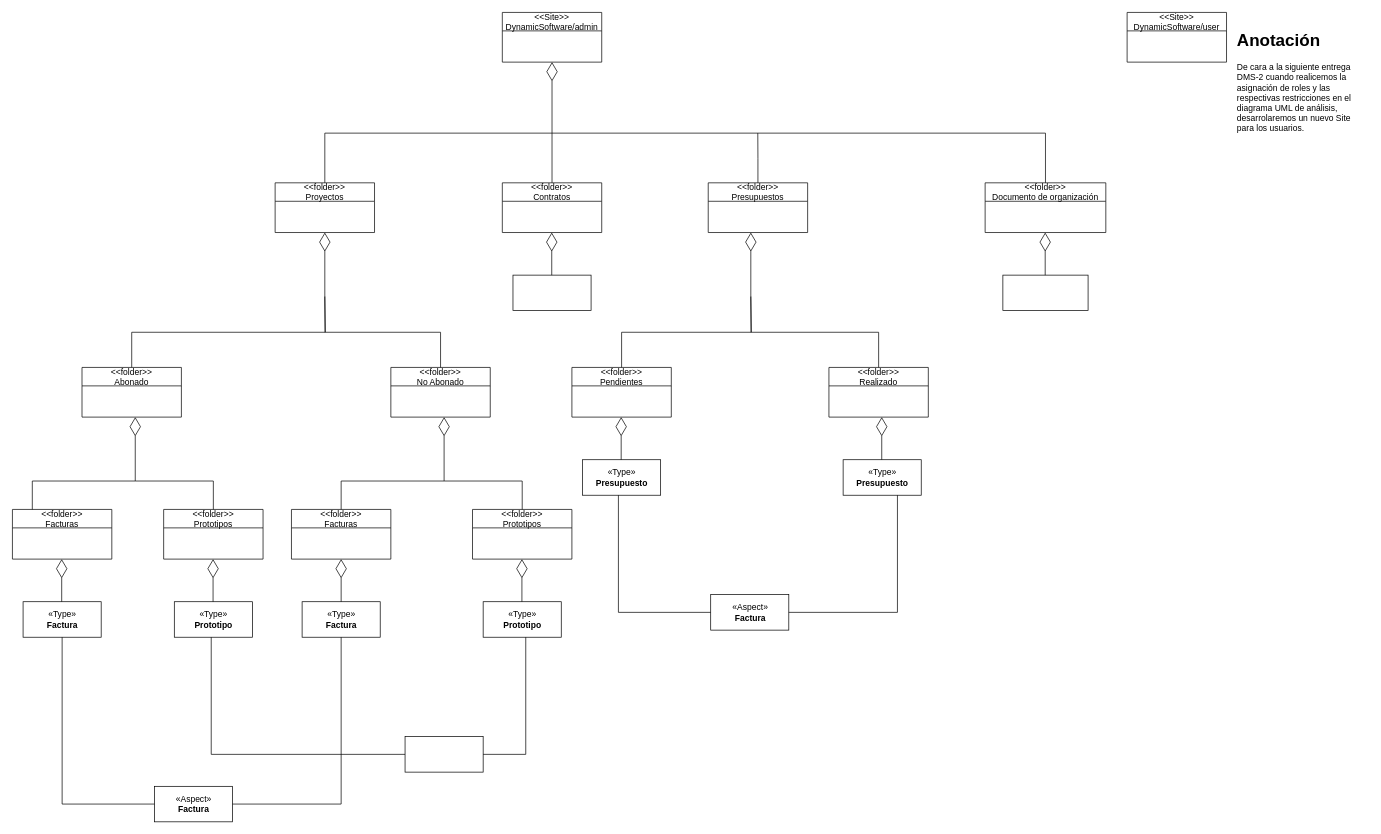
This 1381x834 diagram has some shape labels left out. The box of each missing label's shape, as (x1, y1, x2, y2) in pixels:
«Aspect» Prototipo: (404, 736, 483, 772)
«Type» Contrato: (512, 274, 591, 311)
«Type» Planificación: (1002, 274, 1088, 311)
